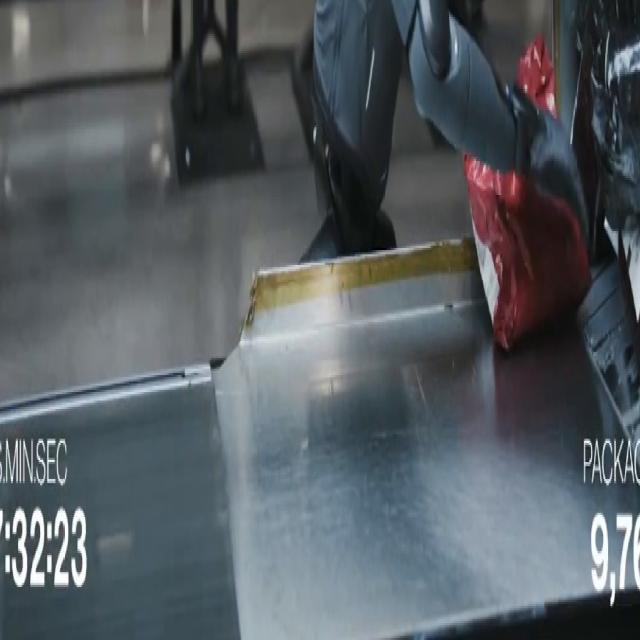package: (465, 155, 590, 349), (578, 0, 639, 230)
